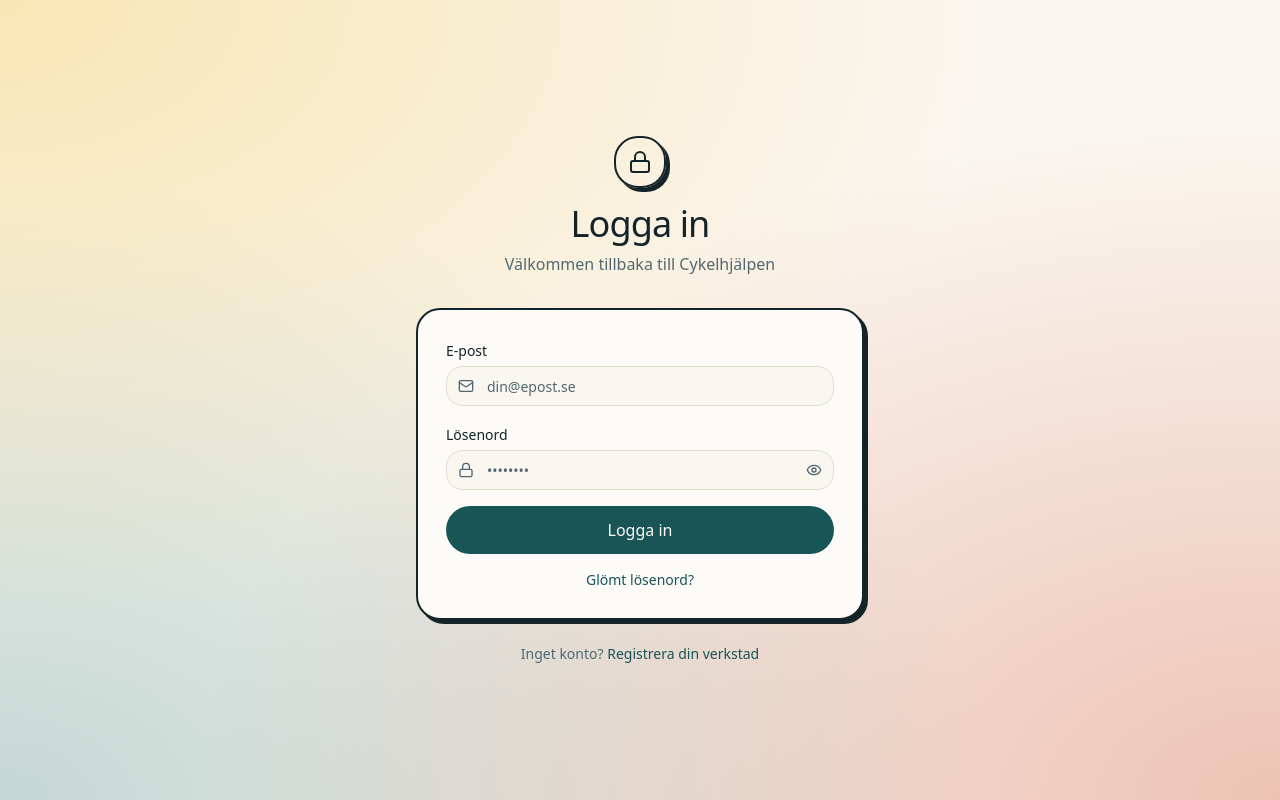
Test: workshop login page › re-enables the form and shows a useful error after a rejected request
Type "test@example.invalid" into the field labelled "E-post".
click(640, 386); type("test@example.invalid")  # box [446,366,834,406]
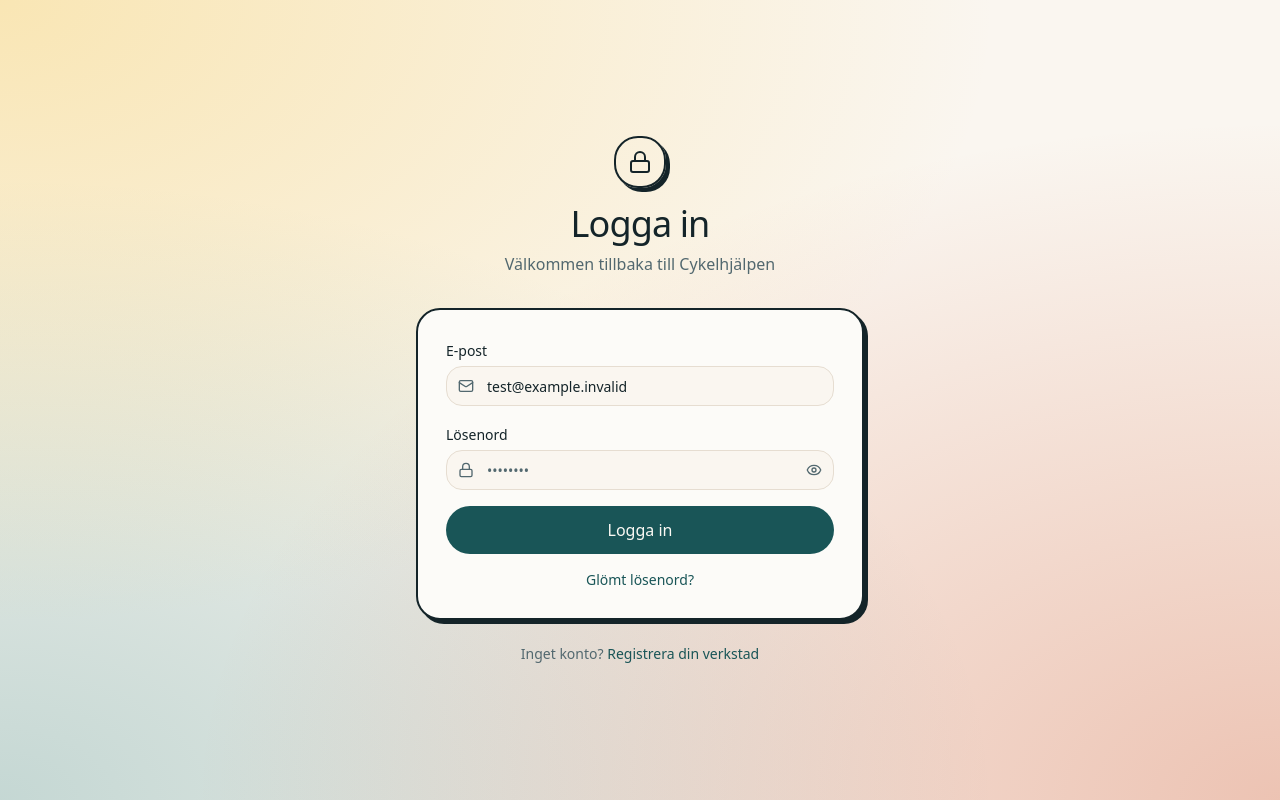
Type "test-only" into the password field labelled "Lösenord".
click(640, 470); type("test-only")  # box [446,450,834,490]
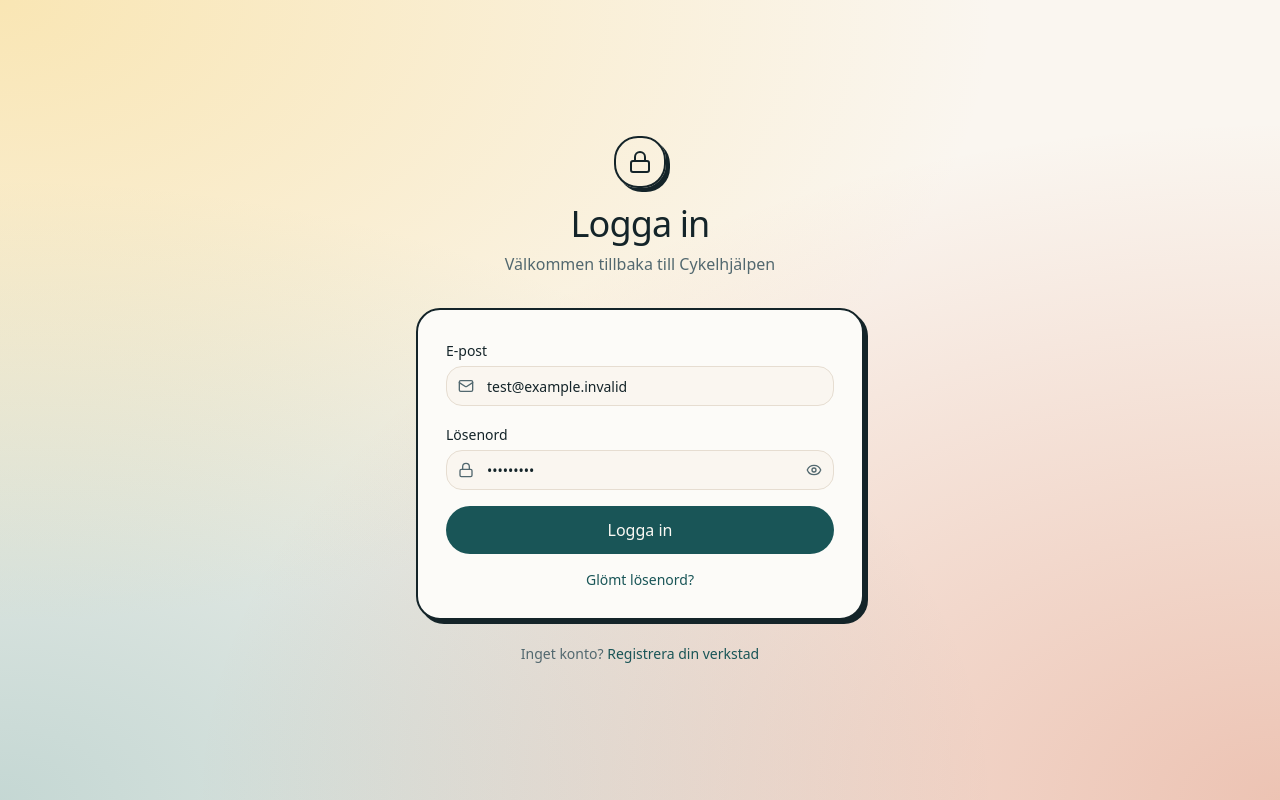
Click the button "Logga in".
click(640, 530)  # box [446,506,834,554]
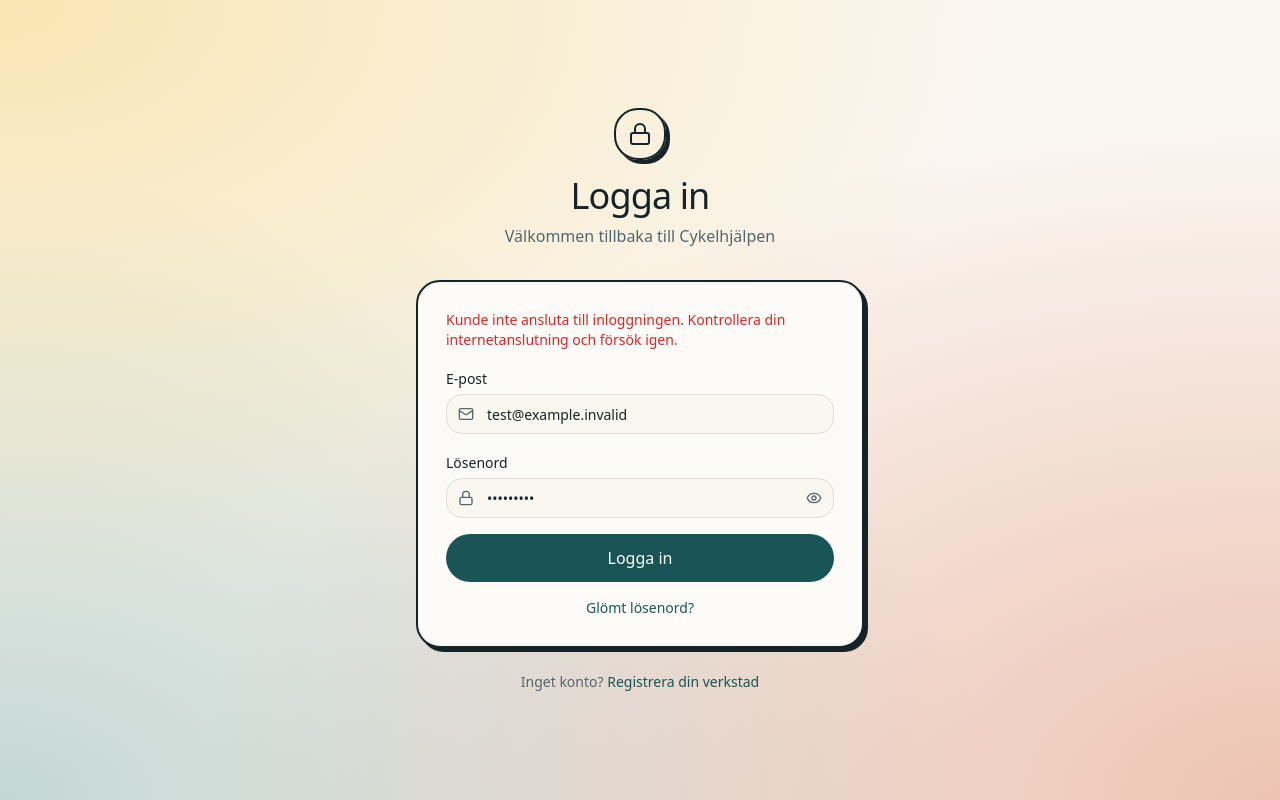
Check: the button "Logga in" is enabled, box [446,534,834,582]
Check: the message shows "internetanslutning", box [446,310,785,349]
